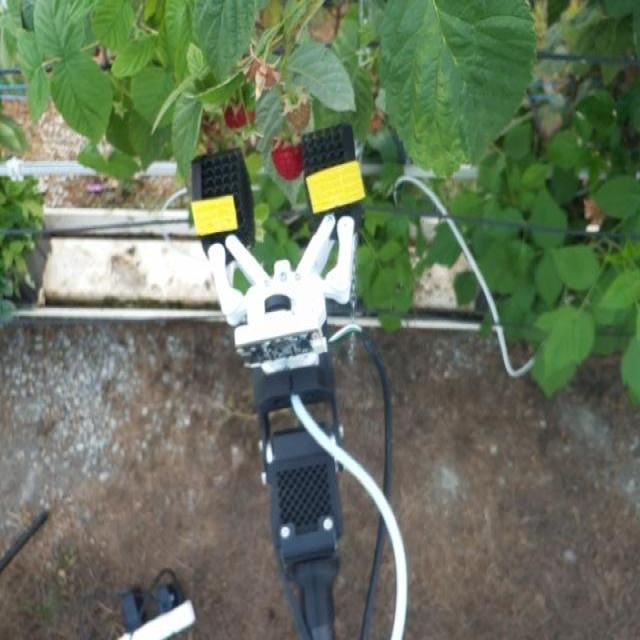Riped berries: (220, 90, 262, 134), (269, 138, 305, 182)
